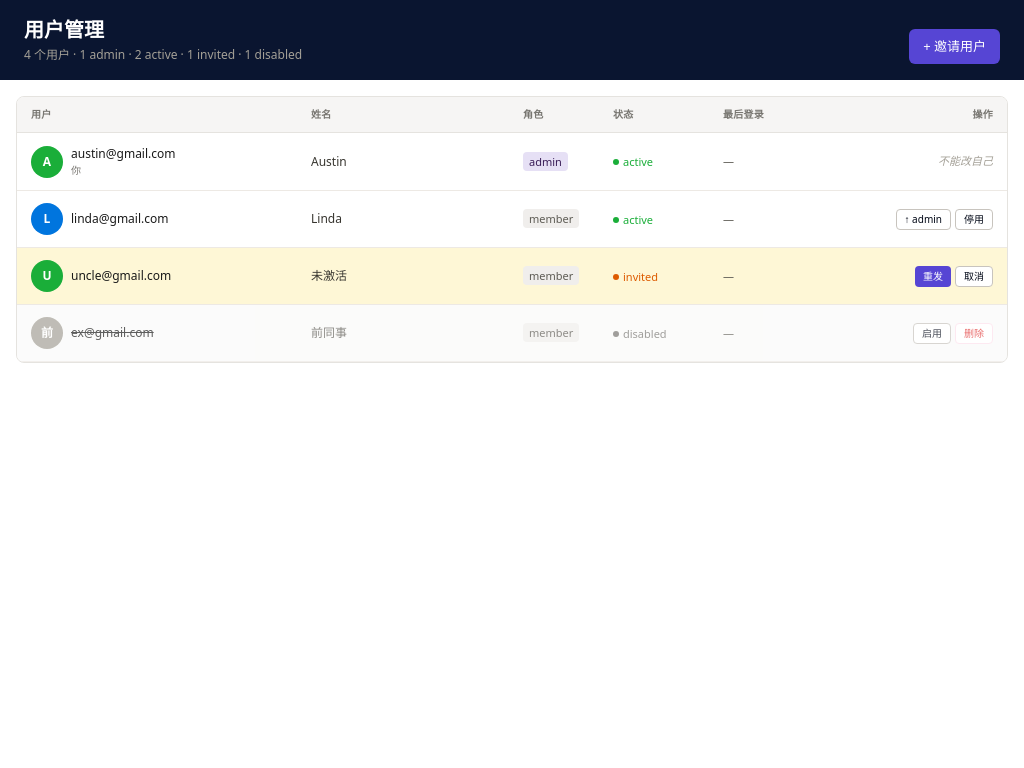
Test case: AdminUsersView — desktop › clicking + 邀请用户 shows InviteUserModal
Click the button "+ 邀请用户".
click(955, 46)  # box [909,28,1000,64]
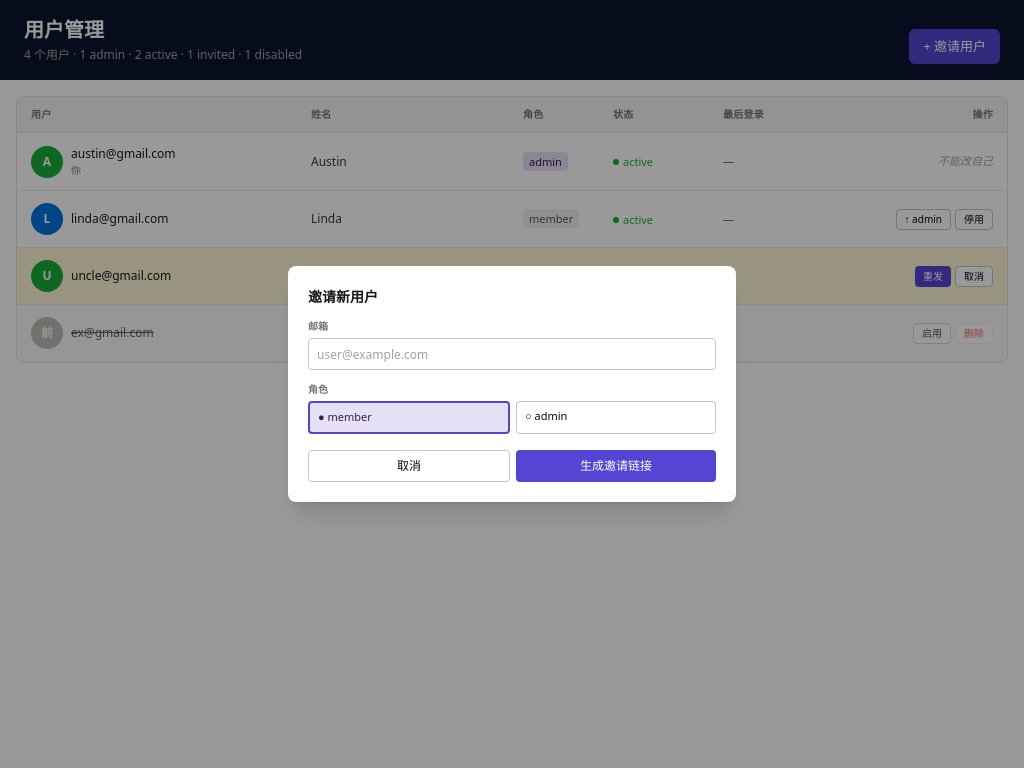
expect the text "邀请新用户" is shown: met, box [308,287,378,306]
